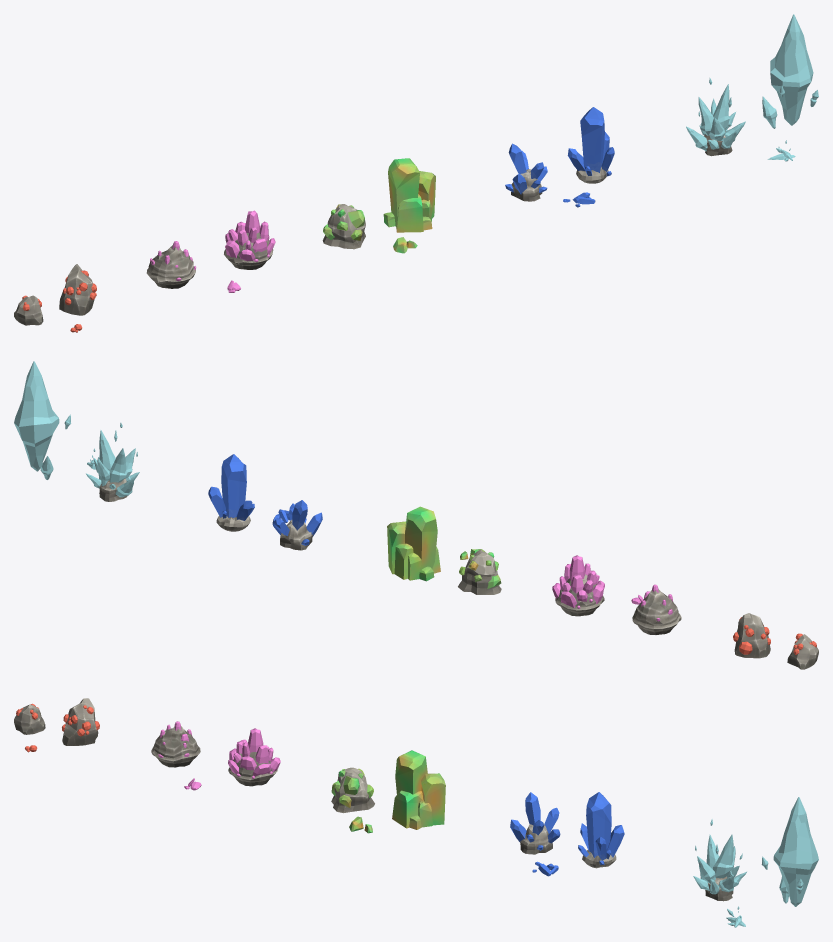
The model's file is ore.glb.
3 views of the same model, one above another, from view 1: azimuth 30°, elevation 25°; view 2: azimuth 150°, elevation 25°; view 3: azimuth 330°, elevation 25° (orthographic).
Visible parts, largest first — view 1: Object_14, Object_15, Object_4, Object_16, Object_8, Object_7, Object_10, Object_9, Object_6, Object_3; view 2: Object_14, Object_4, Object_15, Object_16, Object_8, Object_10, Object_7, Object_9, Object_6, Object_11; view 3: Object_14, Object_15, Object_4, Object_16, Object_8, Object_7, Object_10, Object_6, Object_9, Object_3, Object_11, Object_17.
Part boxes in pixels (x1=…): Object_14: x1=686, y1=14, x2=818, y2=161; Object_15: x1=505, y1=107, x2=614, y2=207; Object_4: x1=383, y1=158, x2=435, y2=232; Object_16: x1=150, y1=210, x2=275, y2=292; Object_8: x1=146, y1=245, x2=195, y2=288; Object_7: x1=59, y1=264, x2=94, y2=315; Object_10: x1=322, y1=204, x2=365, y2=249; Object_9: x1=224, y1=232, x2=273, y2=269; Object_6: x1=14, y1=295, x2=43, y2=325; Object_3: x1=323, y1=204, x2=364, y2=240; Object_14: x1=14, y1=361, x2=139, y2=497; Object_4: x1=387, y1=506, x2=440, y2=581; Object_15: x1=208, y1=454, x2=322, y2=545; Object_16: x1=552, y1=555, x2=672, y2=621; Object_8: x1=632, y1=589, x2=681, y2=634; Object_10: x1=458, y1=549, x2=501, y2=594; Object_7: x1=734, y1=613, x2=770, y2=658; Object_9: x1=555, y1=574, x2=604, y2=616; Object_6: x1=787, y1=634, x2=818, y2=669; Object_11: x1=280, y1=520, x2=313, y2=550; Object_14: x1=693, y1=797, x2=818, y2=927; Object_15: x1=510, y1=792, x2=624, y2=876; Object_4: x1=392, y1=750, x2=445, y2=829; Object_16: x1=158, y1=721, x2=280, y2=790; Object_8: x1=151, y1=726, x2=200, y2=767; Object_7: x1=62, y1=698, x2=98, y2=745; Object_10: x1=331, y1=767, x2=374, y2=813; Object_6: x1=14, y1=704, x2=45, y2=734; Object_9: x1=228, y1=752, x2=277, y2=786; Object_3: x1=331, y1=768, x2=373, y2=807; Object_11: x1=520, y1=824, x2=552, y2=854; Object_17: x1=16, y1=703, x2=99, y2=752.
Bounding box in the file's own units: 12.91 × 1.82 × 1.32.
15 materials, 11 textured.
